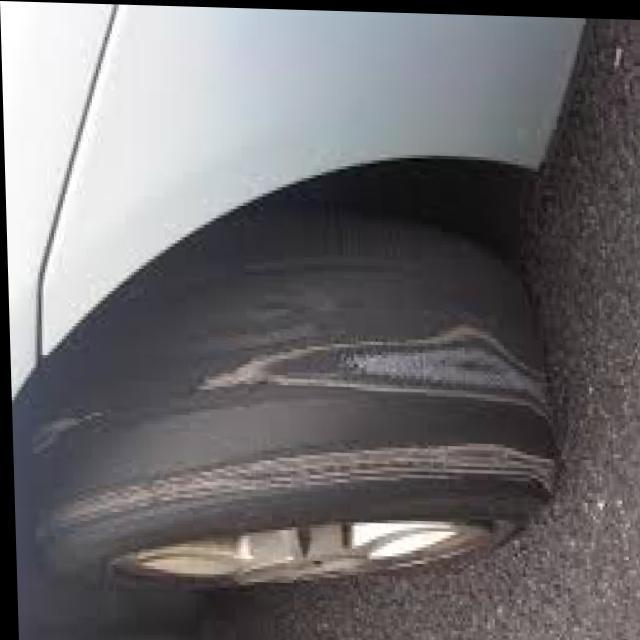Flat spots: (82, 302, 559, 468)
